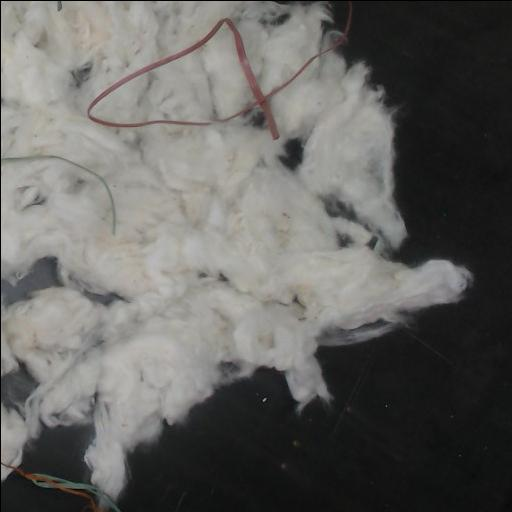conveyor belt: (119, 1, 512, 512)
cotton: (1, 1, 470, 497)
thread: (86, 18, 321, 137), (1, 155, 115, 234), (1, 461, 121, 512)
